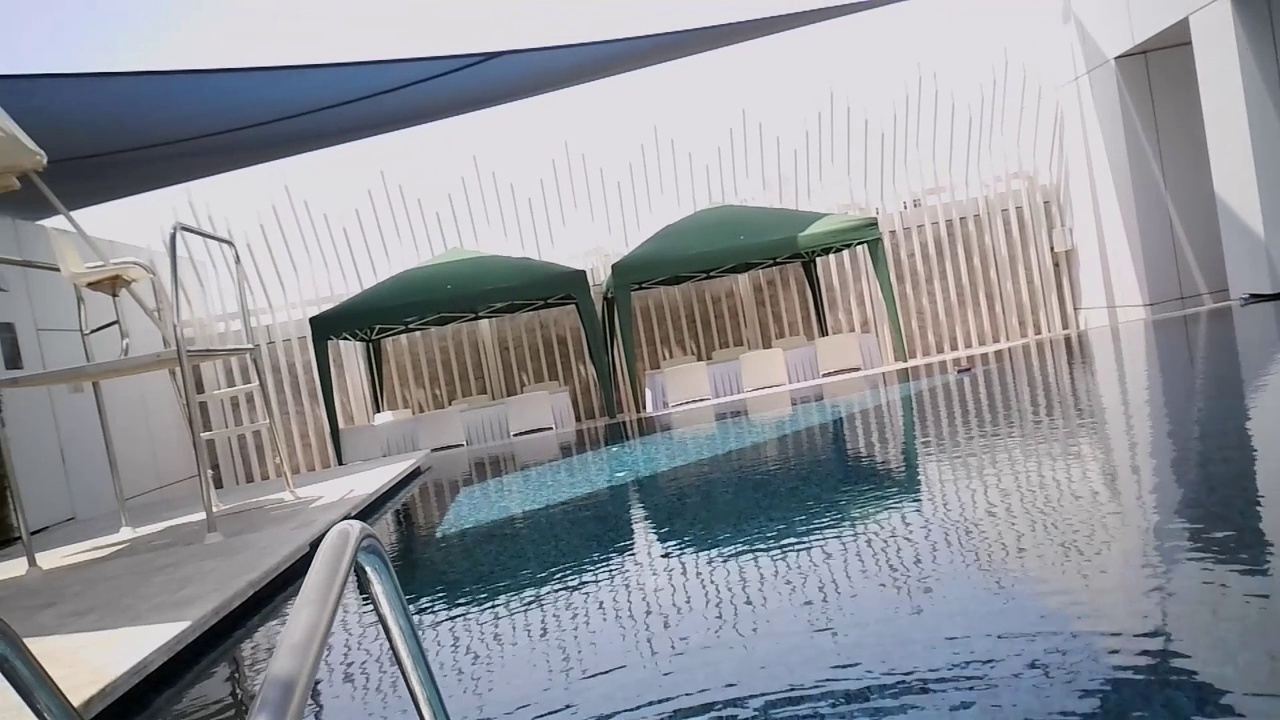debris: (952, 362, 972, 376), (1238, 293, 1255, 309)
